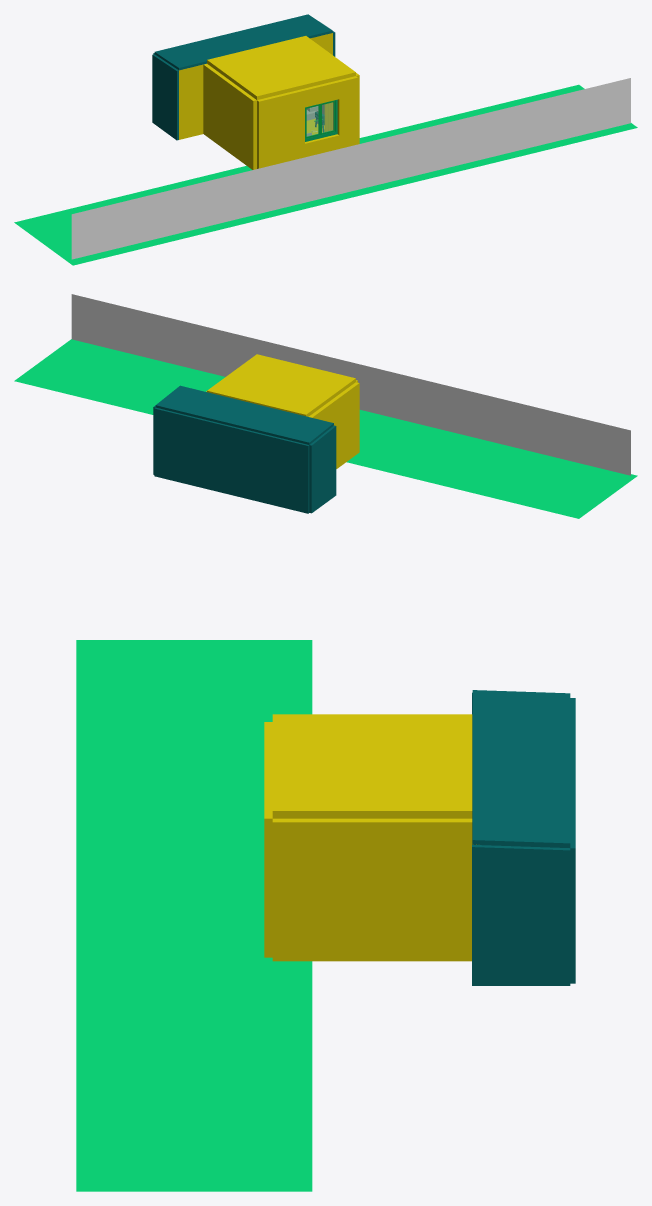
File: Room.fbx
The picture shows the model from 3 angles, top to bottom: view 1: azimuth 30°, elevation 25°; view 2: azimuth 150°, elevation 25°; view 3: azimuth 270°, elevation 25°; orthographic projection. The views are drawn at different scales.
Visible parts, largest first — view 1: msh_FenceTemplate, msh_GrassTemplate, pPlane6, pPlane5, pPlane3, pPlane13, pasted__pPlane4, pPlane8, pPlane12, pPlane15, pPlane11, pPlane14 (+2 smaller); view 2: msh_FenceTemplate, msh_GrassTemplate, msh_WallTemplate, pPlane6, pPlane3, pPlane5, pasted__pPlane4; view 3: msh_GrassTemplate, pPlane10, pPlane6, pPlane3, pPlane4, msh_WallTemplate, pPlane8.
Part boxes in pixels (x1=…): msh_FenceTemplate: x1=71, y1=78, x2=630, y2=259; msh_GrassTemplate: x1=14, y1=84, x2=637, y2=265; pPlane6: x1=207, y1=36, x2=355, y2=99; pPlane5: x1=203, y1=63, x2=256, y2=169; pPlane3: x1=154, y1=14, x2=332, y2=70; pPlane13: x1=257, y1=89, x2=304, y2=168; pasted__pPlane4: x1=152, y1=54, x2=178, y2=140; pPlane8: x1=337, y1=76, x2=357, y2=148; pPlane12: x1=179, y1=80, x2=203, y2=139; pPlane15: x1=303, y1=80, x2=339, y2=107; pPlane11: x1=179, y1=33, x2=332, y2=85; pPlane14: x1=305, y1=134, x2=339, y2=157; msh_FenceTemplate: x1=71, y1=294, x2=630, y2=475; msh_GrassTemplate: x1=14, y1=339, x2=637, y2=518; msh_WallTemplate: x1=154, y1=407, x2=309, y2=513; pPlane6: x1=207, y1=354, x2=355, y2=416; pPlane3: x1=155, y1=385, x2=333, y2=444; pPlane5: x1=309, y1=382, x2=359, y2=468; pasted__pPlane4: x1=309, y1=425, x2=336, y2=513; msh_GrassTemplate: x1=76, y1=640, x2=312, y2=1191; pPlane10: x1=272, y1=818, x2=472, y2=961; pPlane6: x1=272, y1=714, x2=472, y2=818; pPlane3: x1=472, y1=690, x2=570, y2=847; pPlane4: x1=472, y1=845, x2=570, y2=985; msh_WallTemplate: x1=570, y1=698, x2=575, y2=983; pPlane8: x1=264, y1=800, x2=272, y2=957.
Bounding box in the file's own units: 22.98 × 2.98 × 8.79.
